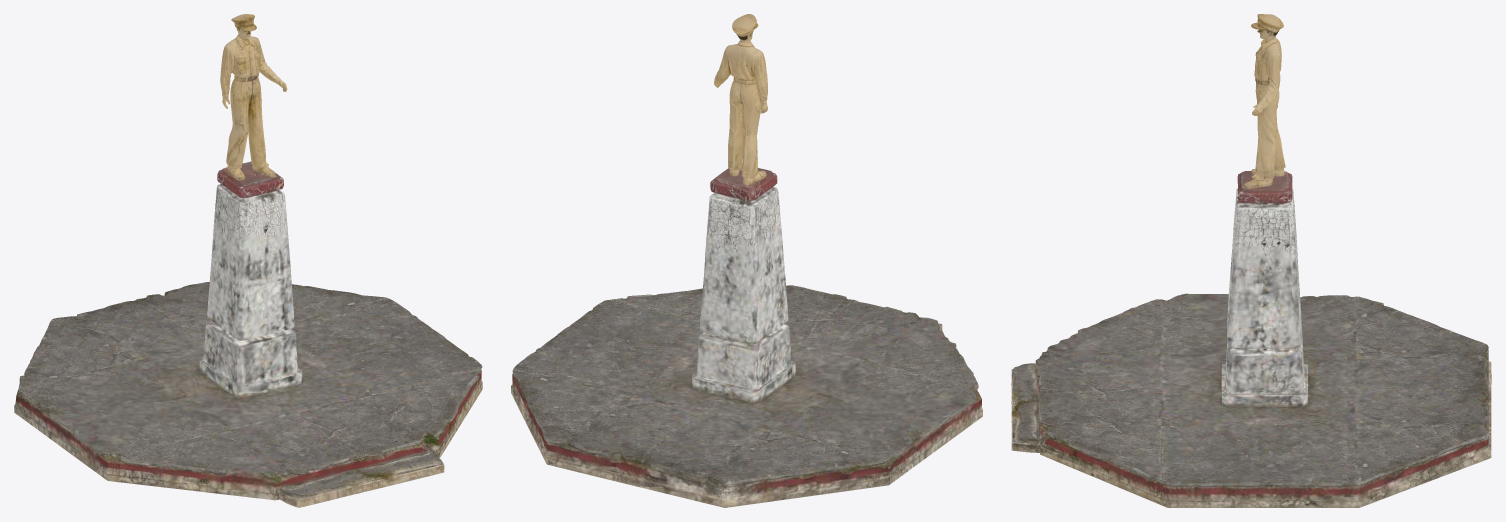
File: 01M47XWZY4TBX87KT1E4AHPJ1M.glb
The picture shows the model from 3 angles, left to right: view 1: azimuth 30°, elevation 25°; view 2: azimuth 150°, elevation 25°; view 3: azimuth 270°, elevation 25°; orthographic projection. The views are drawn at different scales.
Bounding box in the file's own units: 1.78 × 1.74 × 1.9.
Materials: 1 (1 with a texture image).
